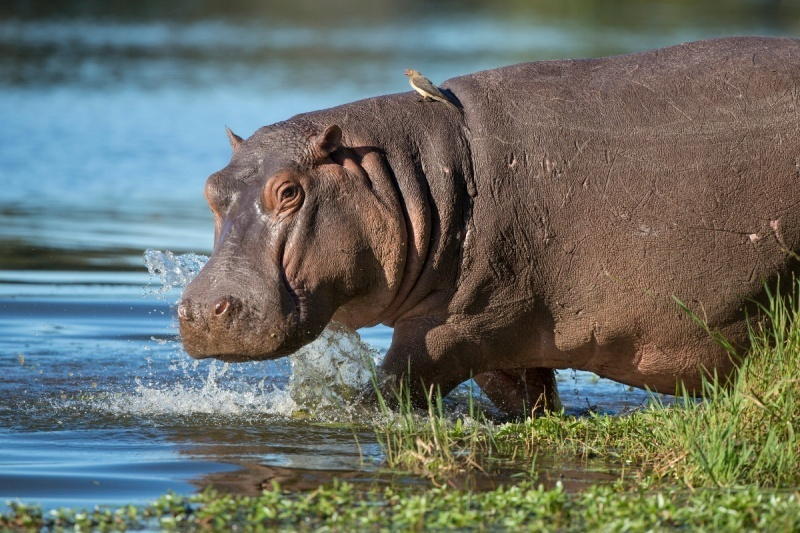hipopotamo: (168, 30, 800, 421)
